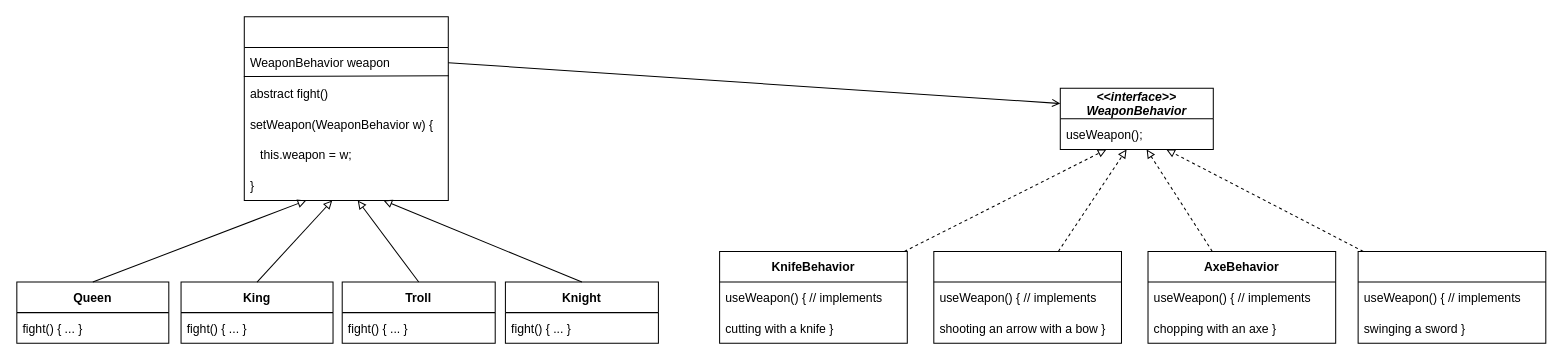
The diagram is 1563 pixels wide and 360 high, and some of its shapes have lost their labels. The shapes that lost their labels are listed below. From the top down, each one's box as (x1, y1, x2, y2) in pixels, then its label:
(243, 16, 448, 200): Character
(933, 250, 1121, 343): BowAndArrowBehavior
(1357, 250, 1546, 343): SwordBehavior
